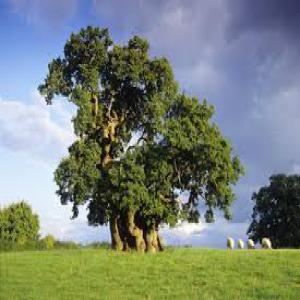Tree: (37, 23, 244, 251)
